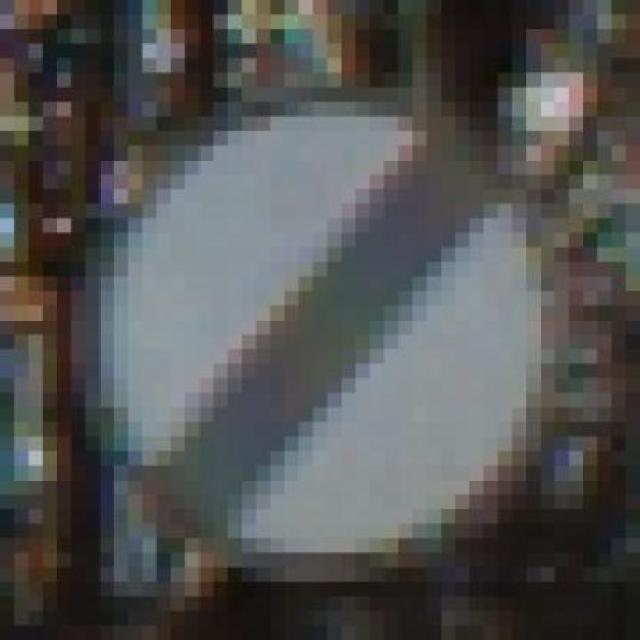End of all speed and passing limits: (71, 102, 583, 568)
